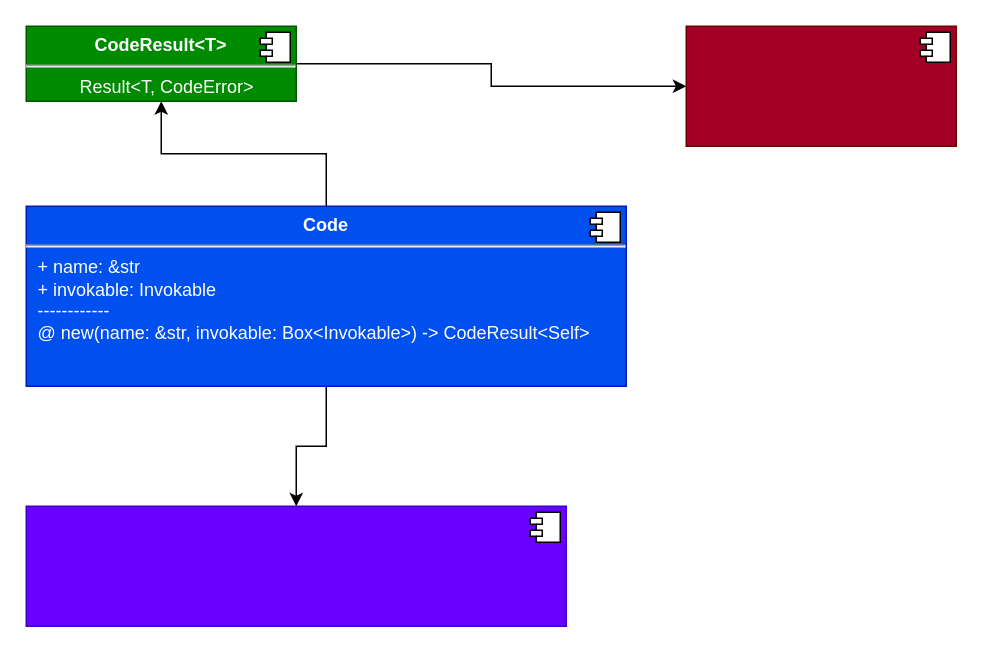
Image size: 983x653. Some labels were removed from this diagram. Each missing label, with the centre of its shape:
"CodeError + WhitespaceError(name: &str)" goes at [820,85].
"Invokable @ invoke(&self, args: &str , stdout: Box<Write>, stderr: Box<Write>)" goes at [295,565].
